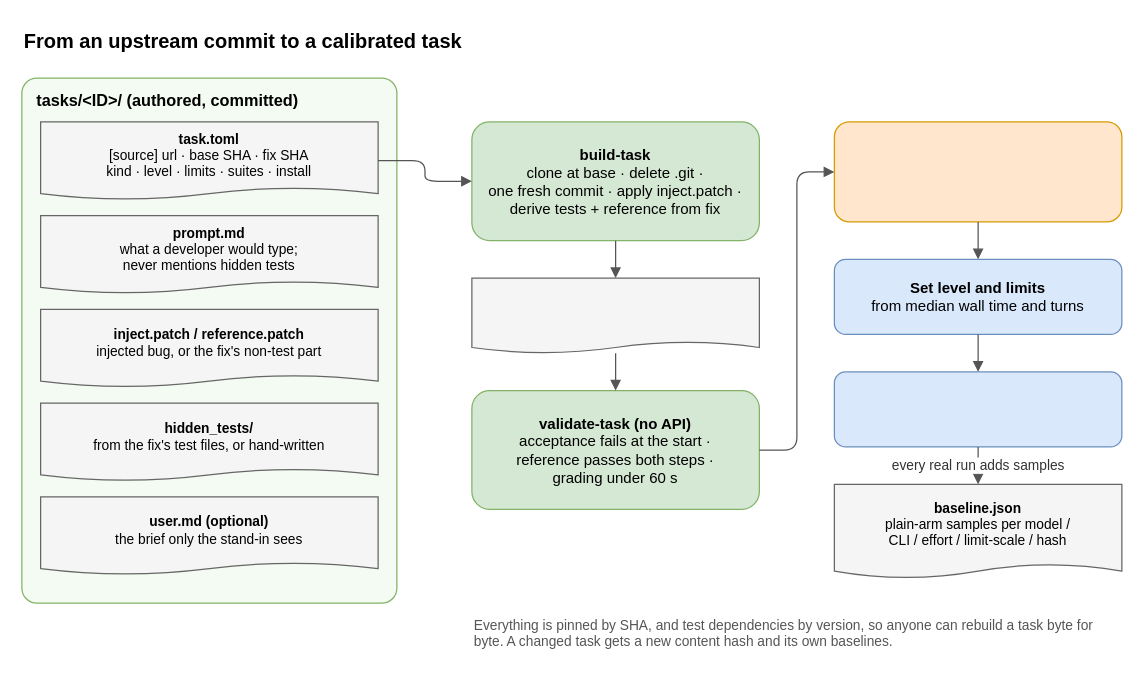
Image size: 1144x686. Some labels were removed from this diagram. Here are the shapes that lost their labels. From the top down, the centre of each, then its label:
point 977,171: Pilot (spends credit) plain, --no-control, × 3: should pass ≥ 2 of 3
point 615,315: repo/ · source.lock.json generated, gitignored, never edited
point 977,409: Tag suites, tier, report_order cost tier from median output tokens
